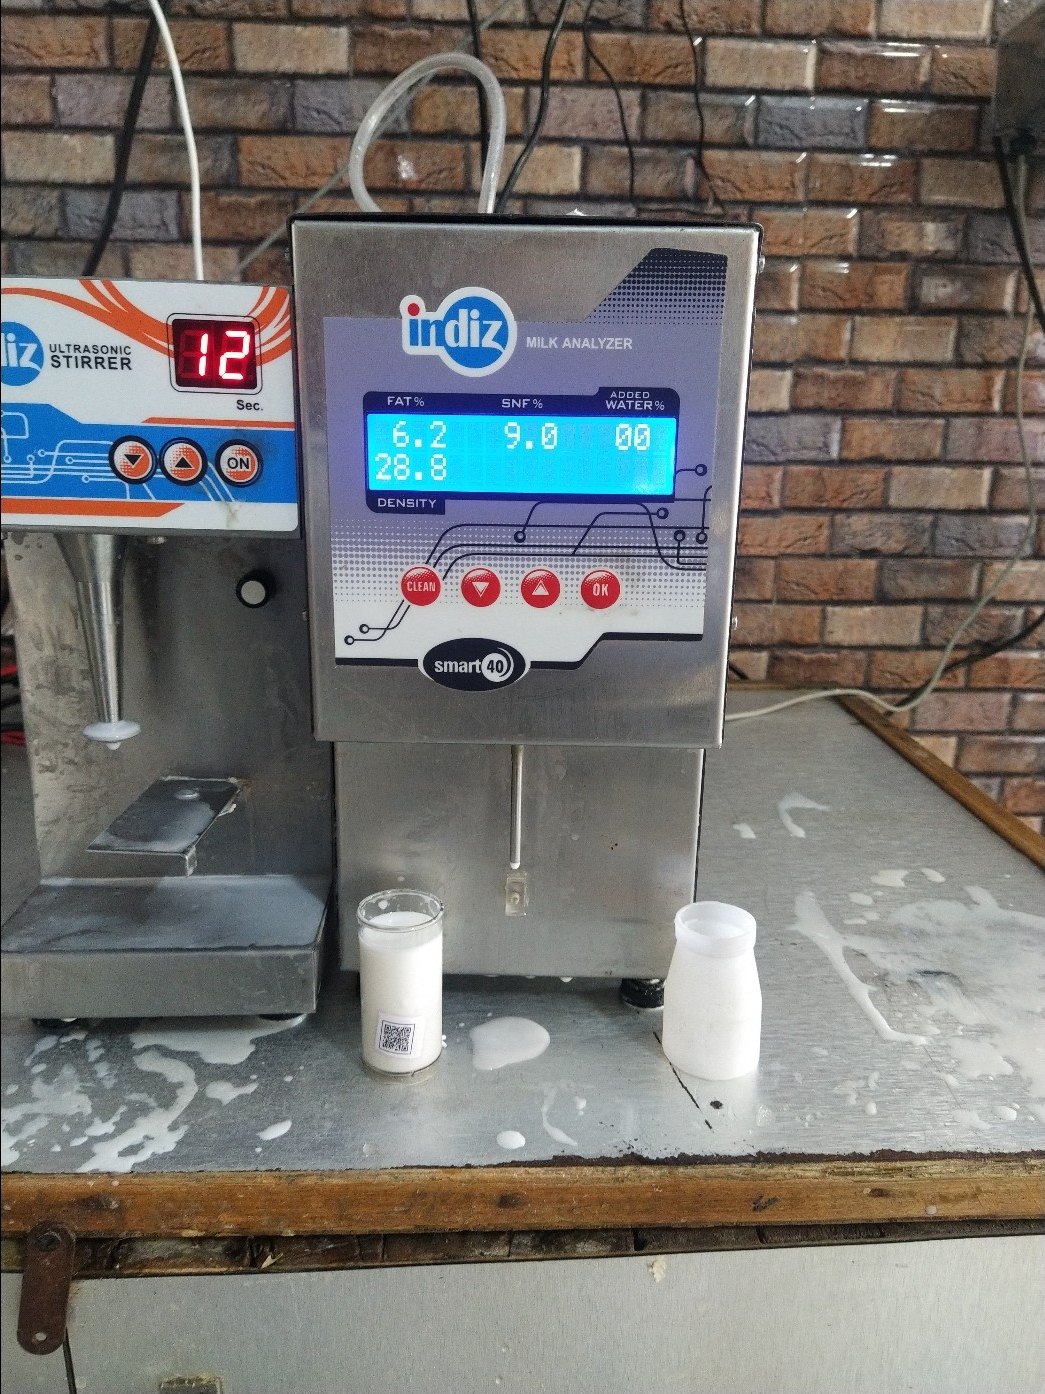lcd: (349, 401, 698, 509)
qr: (364, 1013, 430, 1069)
